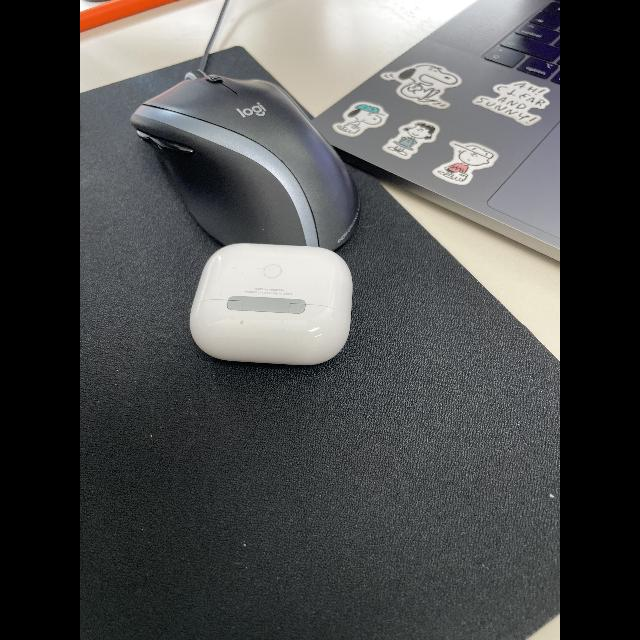airpod3: (172, 228, 372, 376)
